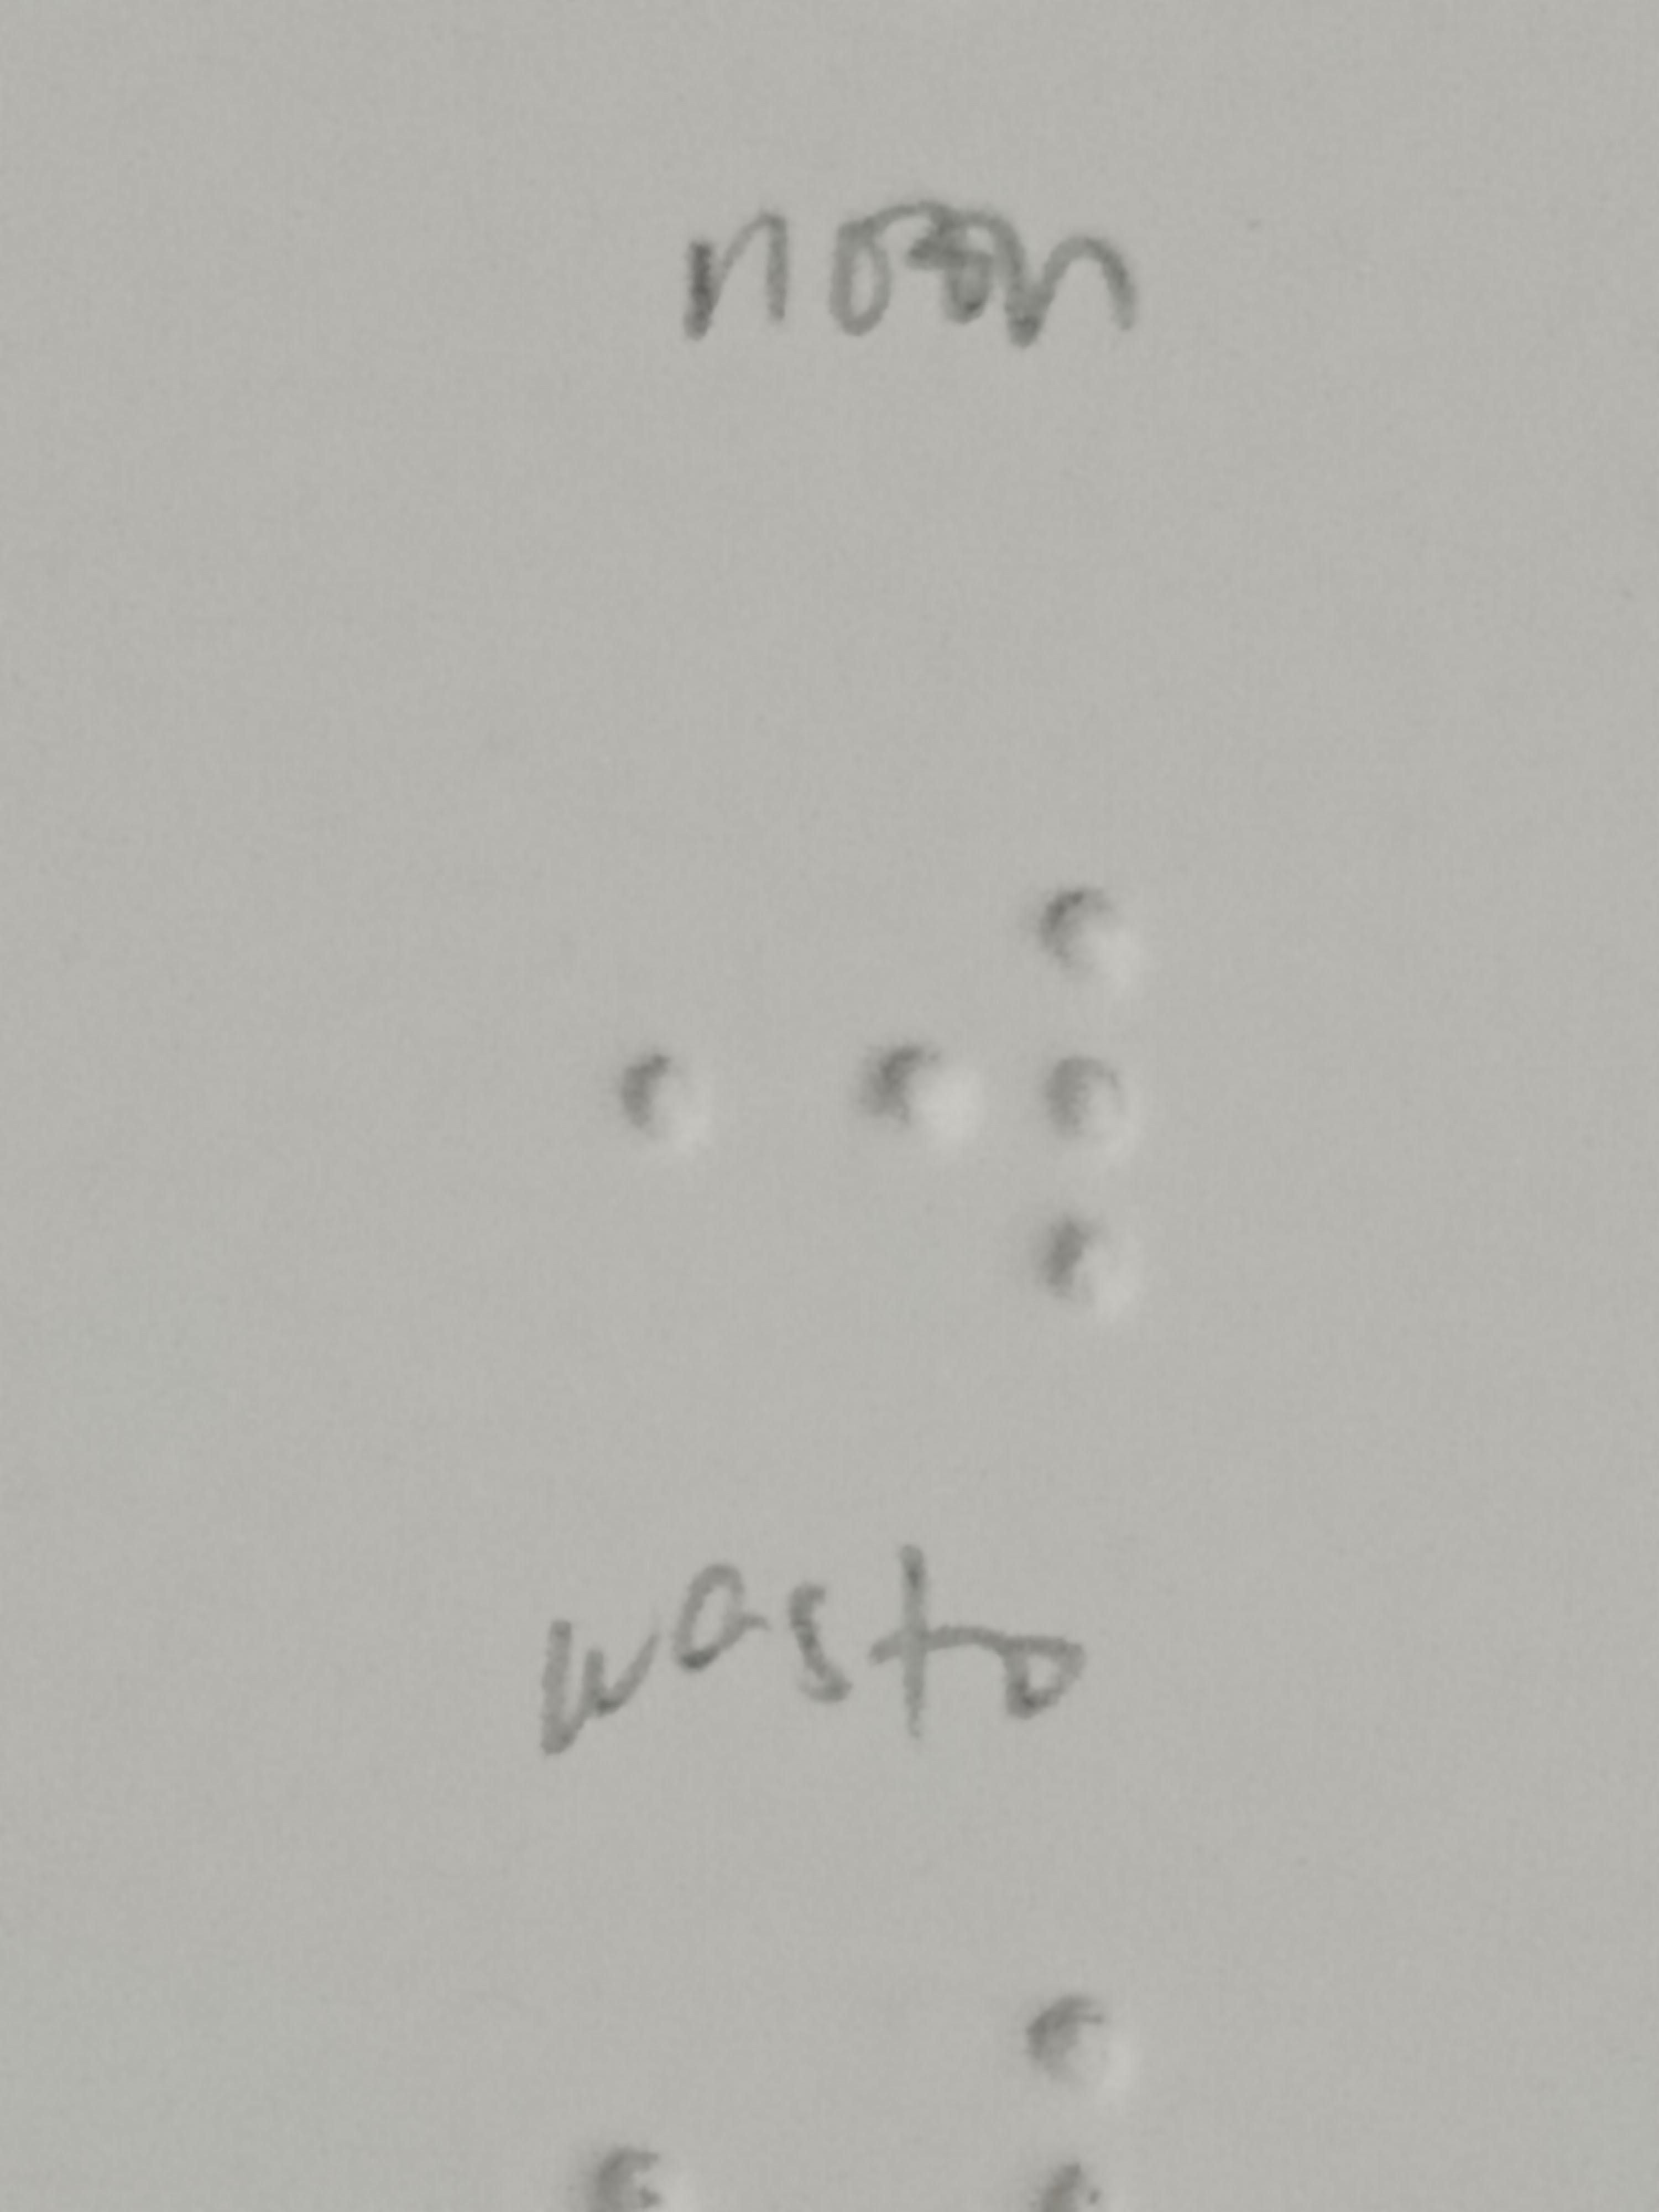dot_5: (432, 857, 699, 1325)
two_cell_alphabet_wasto: (870, 874, 1138, 1343)
